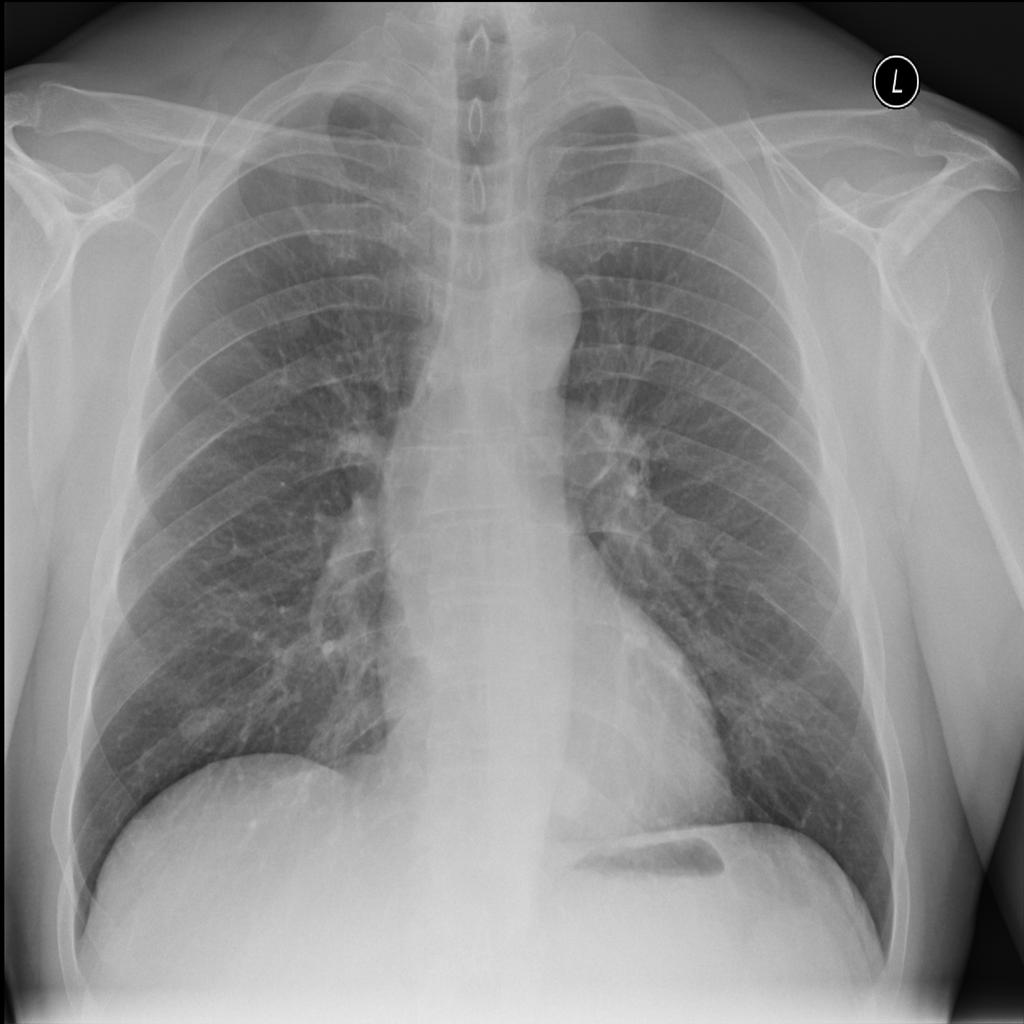nodule: (543, 752, 613, 831), (165, 686, 240, 757), (268, 296, 322, 347)
